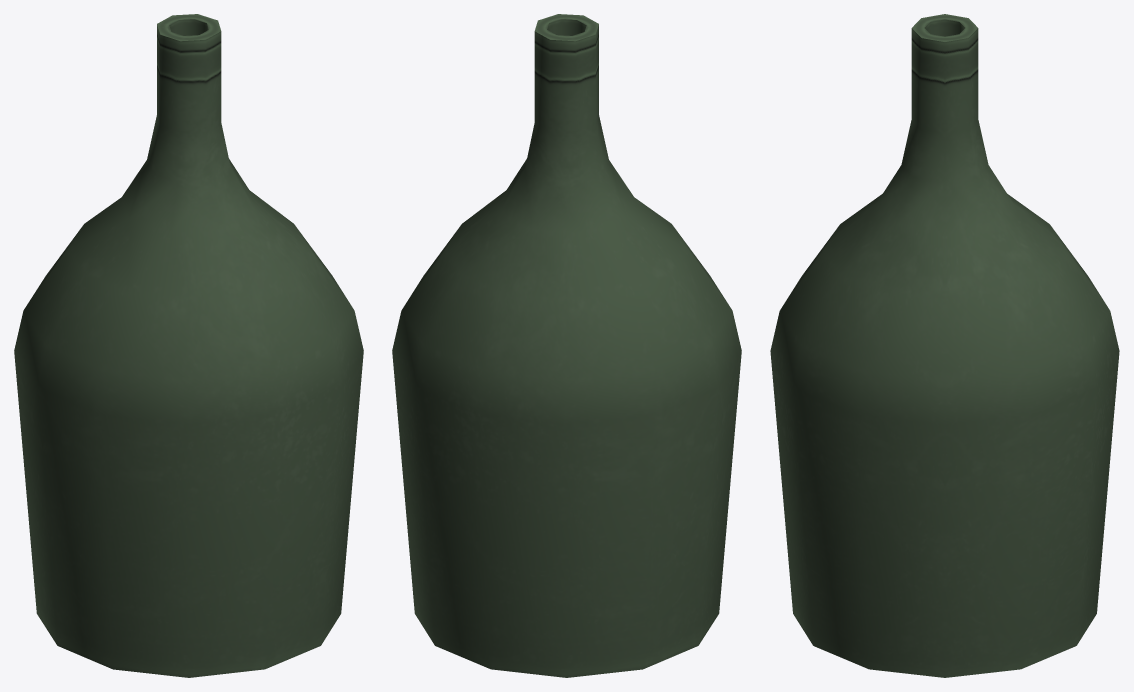
The model's file is LOD1_bigBottle.fbx.
3 renders of one model, left to right at view 1: azimuth 30°, elevation 25°; view 2: azimuth 150°, elevation 25°; view 3: azimuth 270°, elevation 25°, orthographic.
Parts seen in each view (by area): view 1: LOD1_bigBottle; view 2: LOD1_bigBottle; view 3: LOD1_bigBottle.
Part boxes in pixels (left/top/right/bottom): LOD1_bigBottle: left=14, top=14, right=363, bottom=677; LOD1_bigBottle: left=392, top=14, right=741, bottom=677; LOD1_bigBottle: left=770, top=14, right=1119, bottom=677.
Size of the model in its own units: 0.2174 by 0.4024 by 0.2174.
